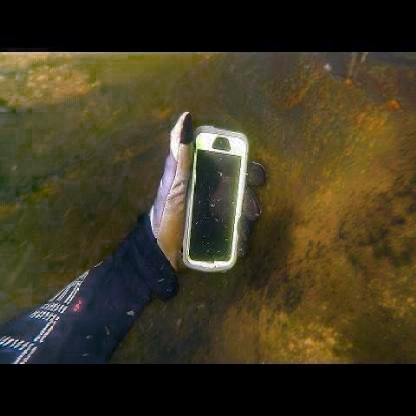cellphone: (184, 125, 246, 275)
